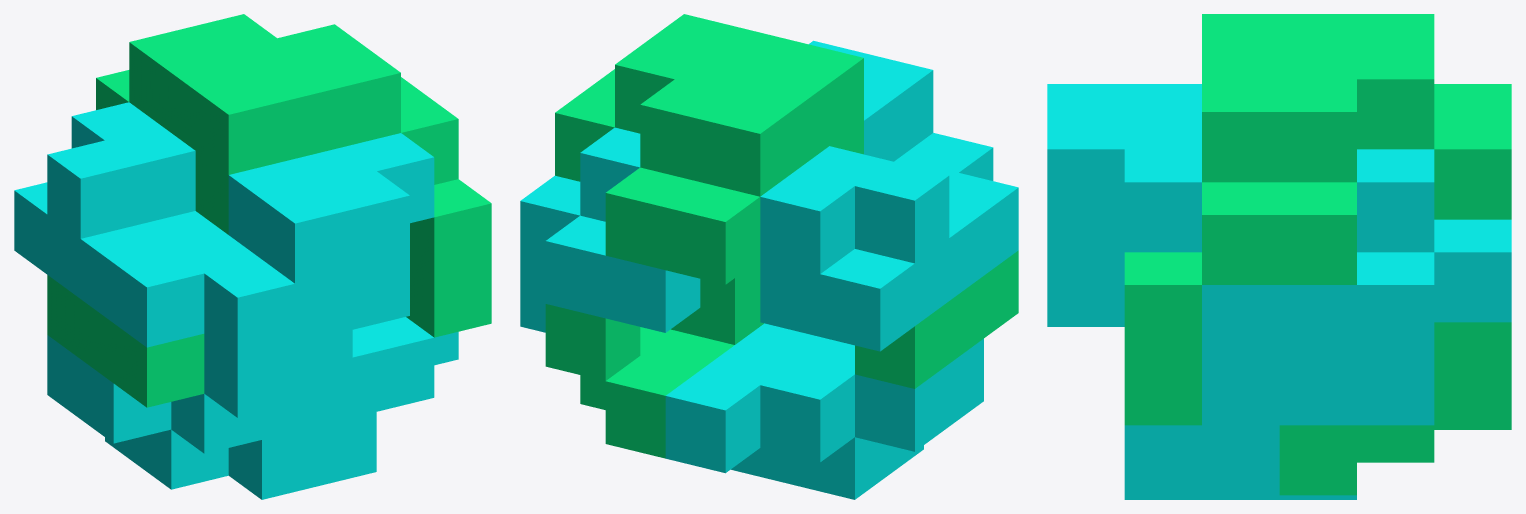
The model's file is planeta-6c.obj.
3 views of the same model, side by side, from view 1: azimuth 30°, elevation 25°; view 2: azimuth 150°, elevation 25°; view 3: azimuth 270°, elevation 25° (orthographic). The views are drawn at different scales.
Size of the model in its own units: 0.6 by 0.6 by 0.6.
1 material, 1 textured.
